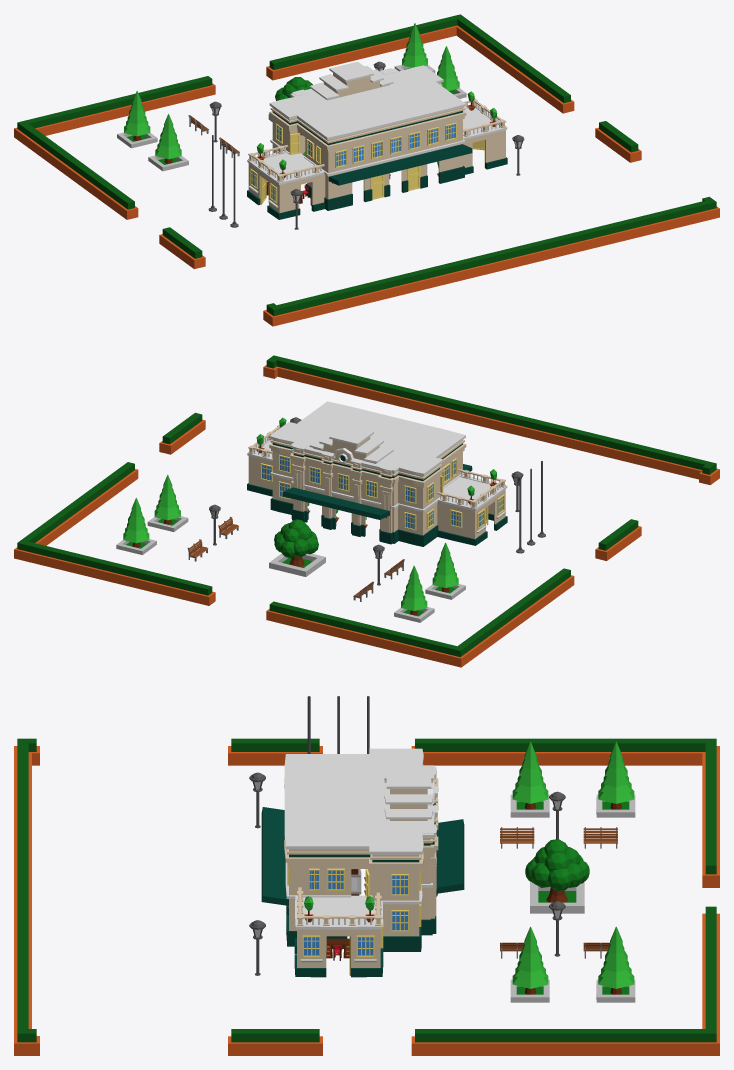
Rendered from Zipaquira01.glb.
The picture shows the model from 3 angles, top to bottom: view 1: azimuth 30°, elevation 25°; view 2: azimuth 150°, elevation 25°; view 3: azimuth 270°, elevation 25°; orthographic projection. The views are drawn at different scales.
Parts seen in each view (by area): view 1: Cube.438, Cube.382, Cube.383, Cube.427, Cube.319, Cube.435, Cube.407, Cube.891, Cylinder.064, Cube.367; view 2: Cube.382, Cube.438, Cube.383, Cube.427, Cube.319, Cube.436, Cube.435, Cube.437, Cube.430, Cube.891, Cylinder.064; view 3: Cube.382, Cube.438, Cube.383, Cube.319, Cube.427, Cube.435, Cube.407, Cube.430, Cube.891, Cube.436, Cube.387, Cube.384 (+4 smaller).
Part boxes in pixels (x1=…): Cube.438: x1=269, y1=65, x2=466, y2=210; Cube.382: x1=14, y1=14, x2=574, y2=219; Cube.383: x1=263, y1=196, x2=719, y2=326; Cube.427: x1=247, y1=106, x2=507, y2=219; Cube.319: x1=159, y1=121, x2=641, y2=269; Cube.435: x1=309, y1=61, x2=393, y2=100; Cube.407: x1=328, y1=144, x2=472, y2=185; Cube.891: x1=254, y1=107, x2=498, y2=179; Cylinder.064: x1=208, y1=135, x2=238, y2=227; Cube.367: x1=370, y1=165, x2=420, y2=199; Cube.382: x1=14, y1=462, x2=574, y2=667; Cube.438: x1=269, y1=401, x2=466, y2=546; Cube.383: x1=263, y1=355, x2=719, y2=485; Cube.427: x1=247, y1=438, x2=507, y2=545; Cube.319: x1=159, y1=412, x2=641, y2=560; Cube.436: x1=290, y1=442, x2=397, y2=544; Cube.435: x1=309, y1=425, x2=393, y2=463; Cube.437: x1=321, y1=451, x2=363, y2=536; Cube.430: x1=283, y1=487, x2=389, y2=519; Cube.891: x1=255, y1=440, x2=499, y2=505; Cylinder.064: x1=516, y1=461, x2=545, y2=553; Cube.382: x1=411, y1=738, x2=719, y2=1055; Cube.438: x1=284, y1=748, x2=434, y2=951; Cube.383: x1=14, y1=738, x2=39, y2=1055; Cube.319: x1=228, y1=738, x2=322, y2=1055; Cube.427: x1=294, y1=896, x2=383, y2=977; Cube.435: x1=384, y1=767, x2=433, y2=820; Cube.407: x1=261, y1=807, x2=288, y2=905; Cube.430: x1=436, y1=819, x2=464, y2=893; Cube.891: x1=302, y1=895, x2=376, y2=924; Cube.436: x1=421, y1=766, x2=438, y2=933; Cube.387: x1=510, y1=794, x2=549, y2=1002; Cube.384: x1=596, y1=794, x2=635, y2=1002.
Size of the model in its own units: 32.22 by 6.55 by 32.27.
